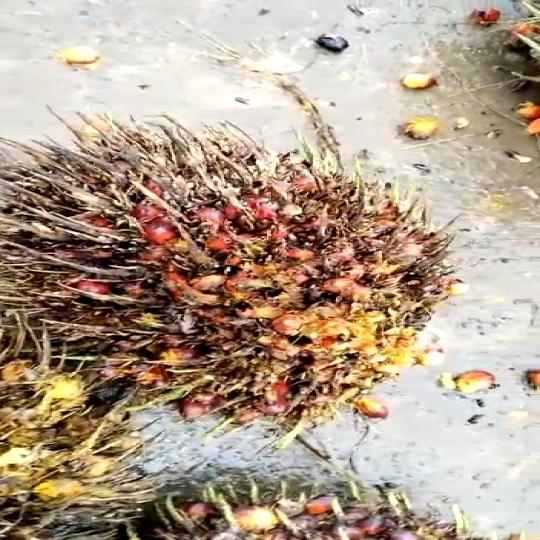terlalu masak: (0, 110, 470, 470)
